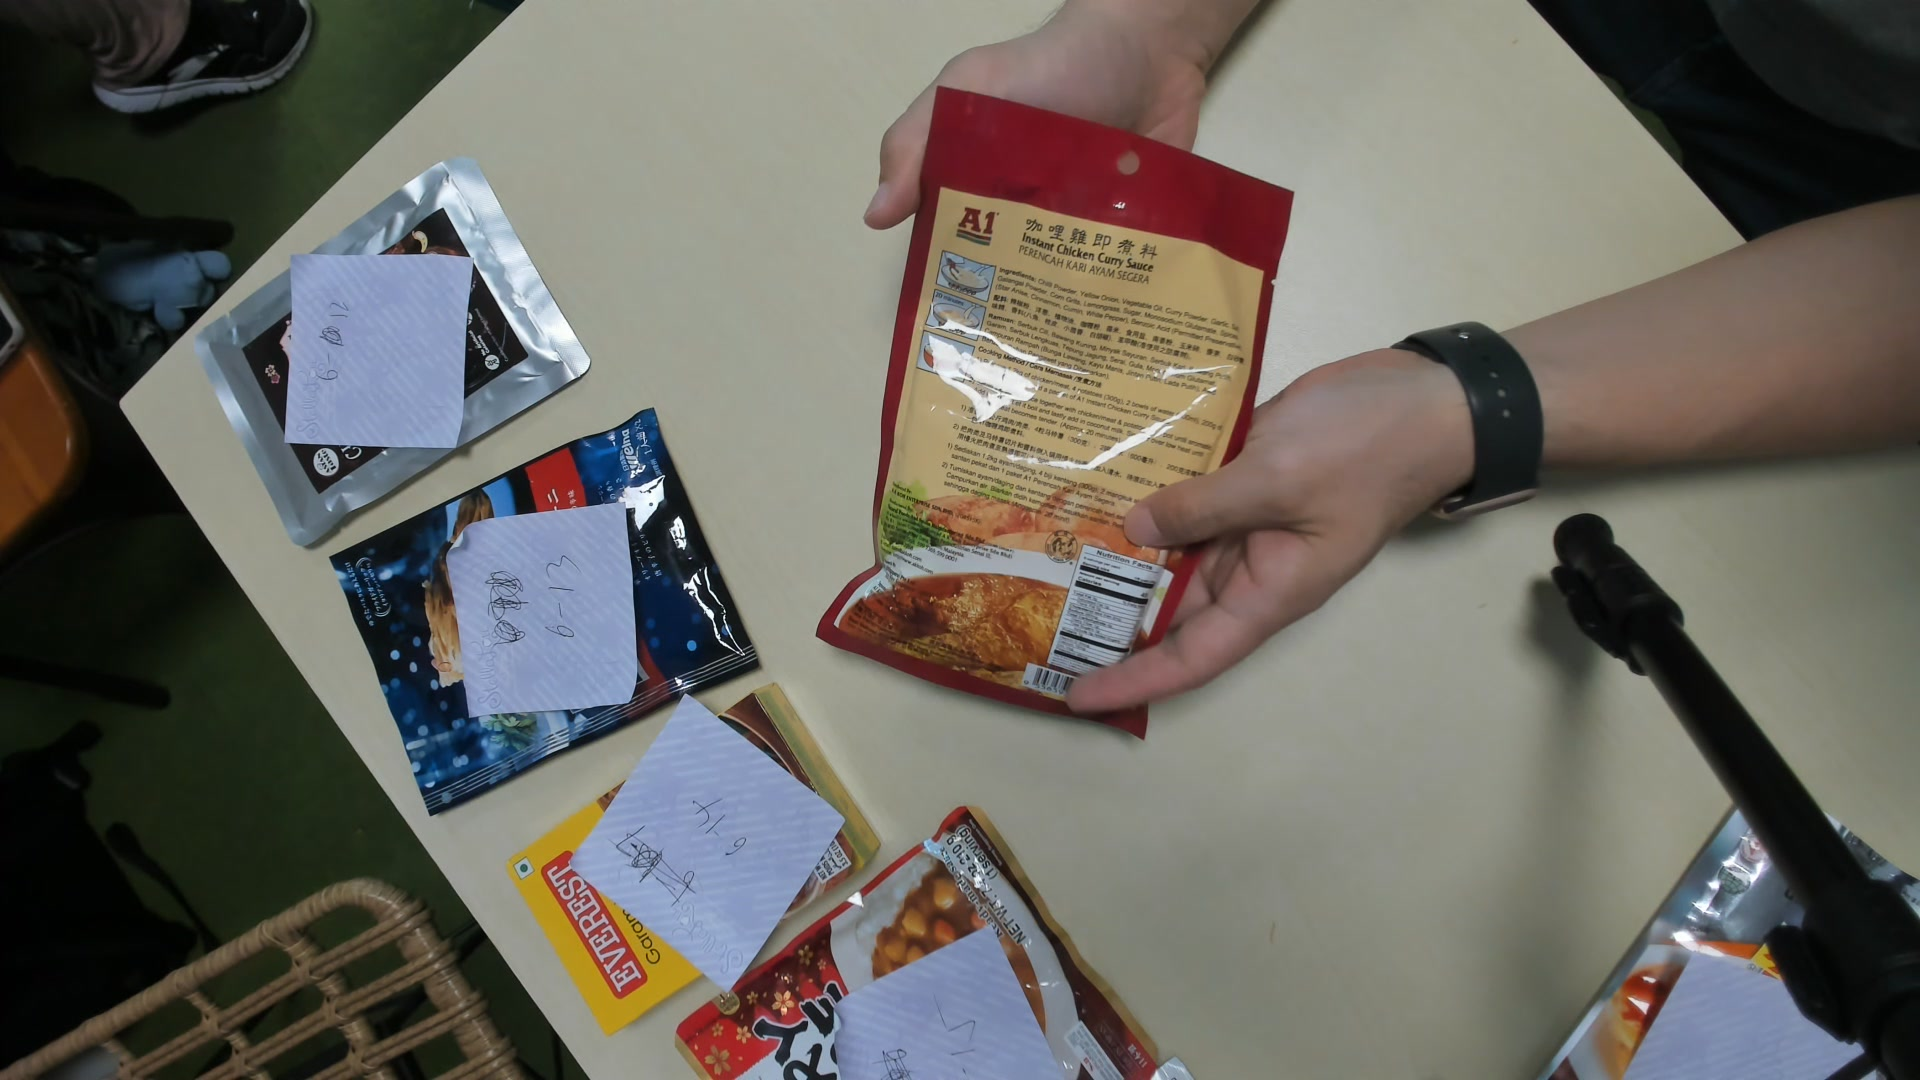CurryPastePowderSauce_200-299g_Halal_NonHealthy: (855, 98, 1278, 738)
